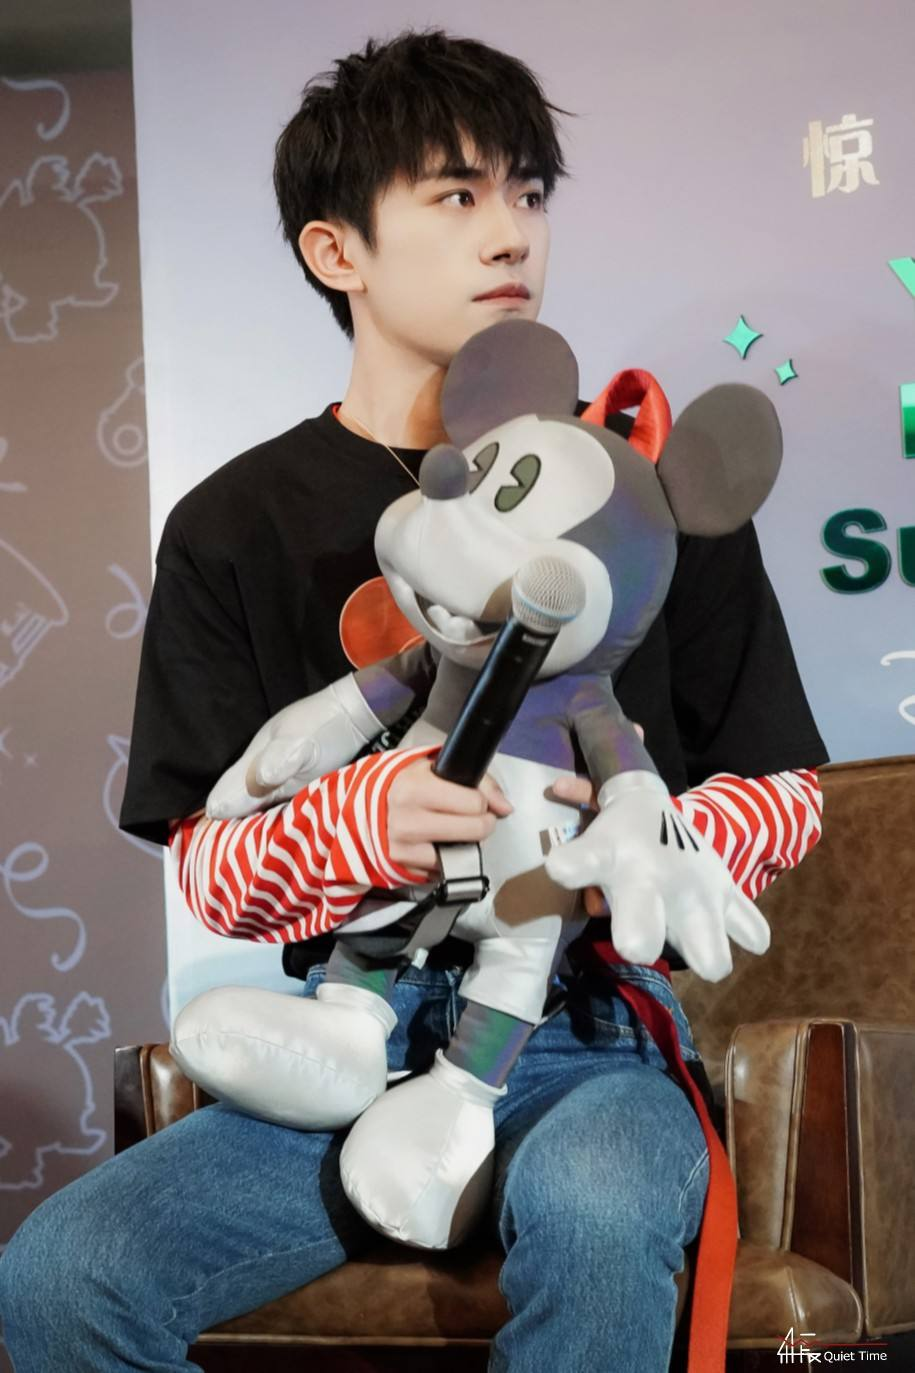person: (68, 87, 652, 1047)
